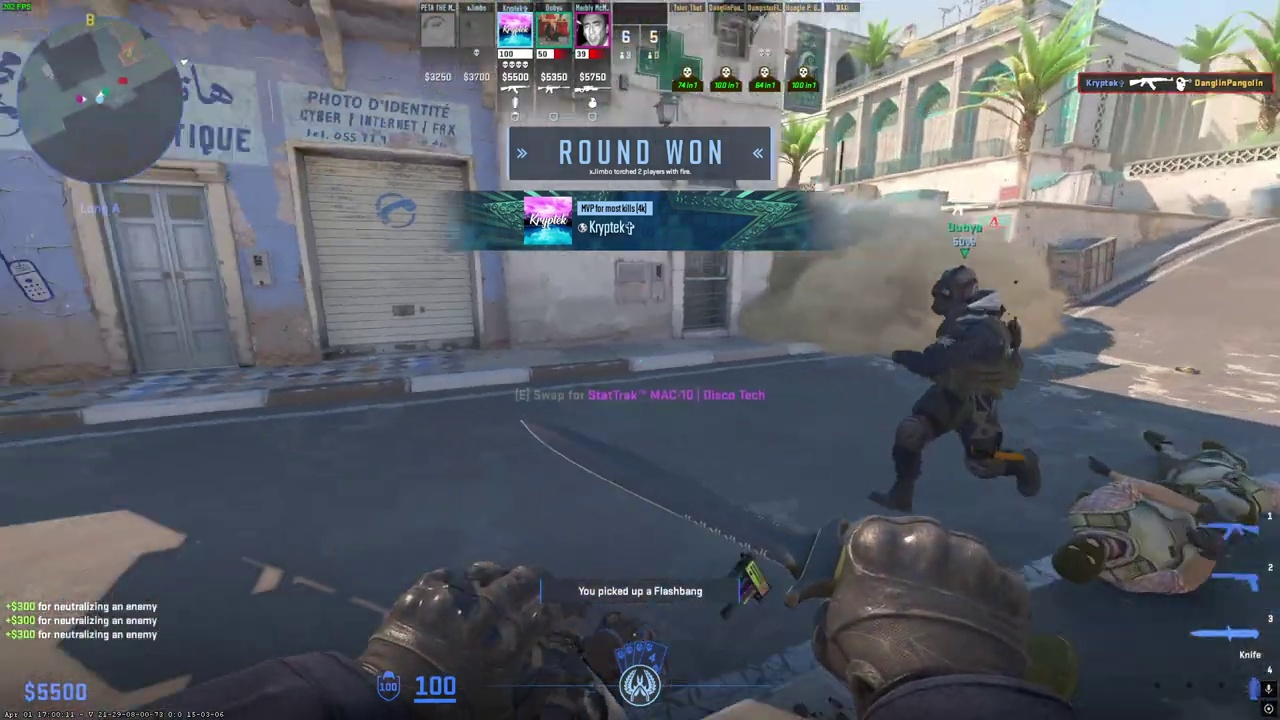CT: (885, 264, 1024, 514)
